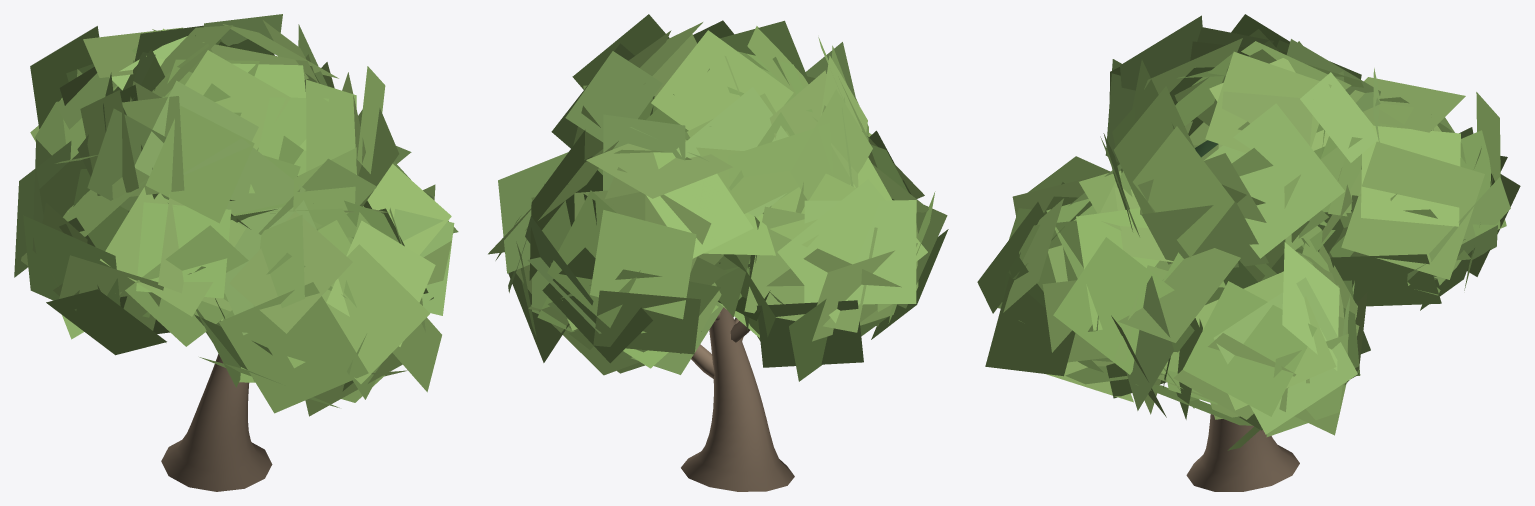
File: tree_fruit_0.glb
The picture shows the model from 3 angles, left to right: view 1: azimuth 30°, elevation 25°; view 2: azimuth 150°, elevation 25°; view 3: azimuth 270°, elevation 25°; orthographic projection. The views are drawn at different scales.
Visible parts, largest first — view 1: Tree; view 2: Tree; view 3: Tree.
Part boxes in pixels (<box>): Tree: <box>14,14,458,491</box>; Tree: <box>488,14,948,491</box>; Tree: <box>977,14,1520,491</box>.
Bounding box in the file's own units: 4.87 × 4.9 × 5.41.
